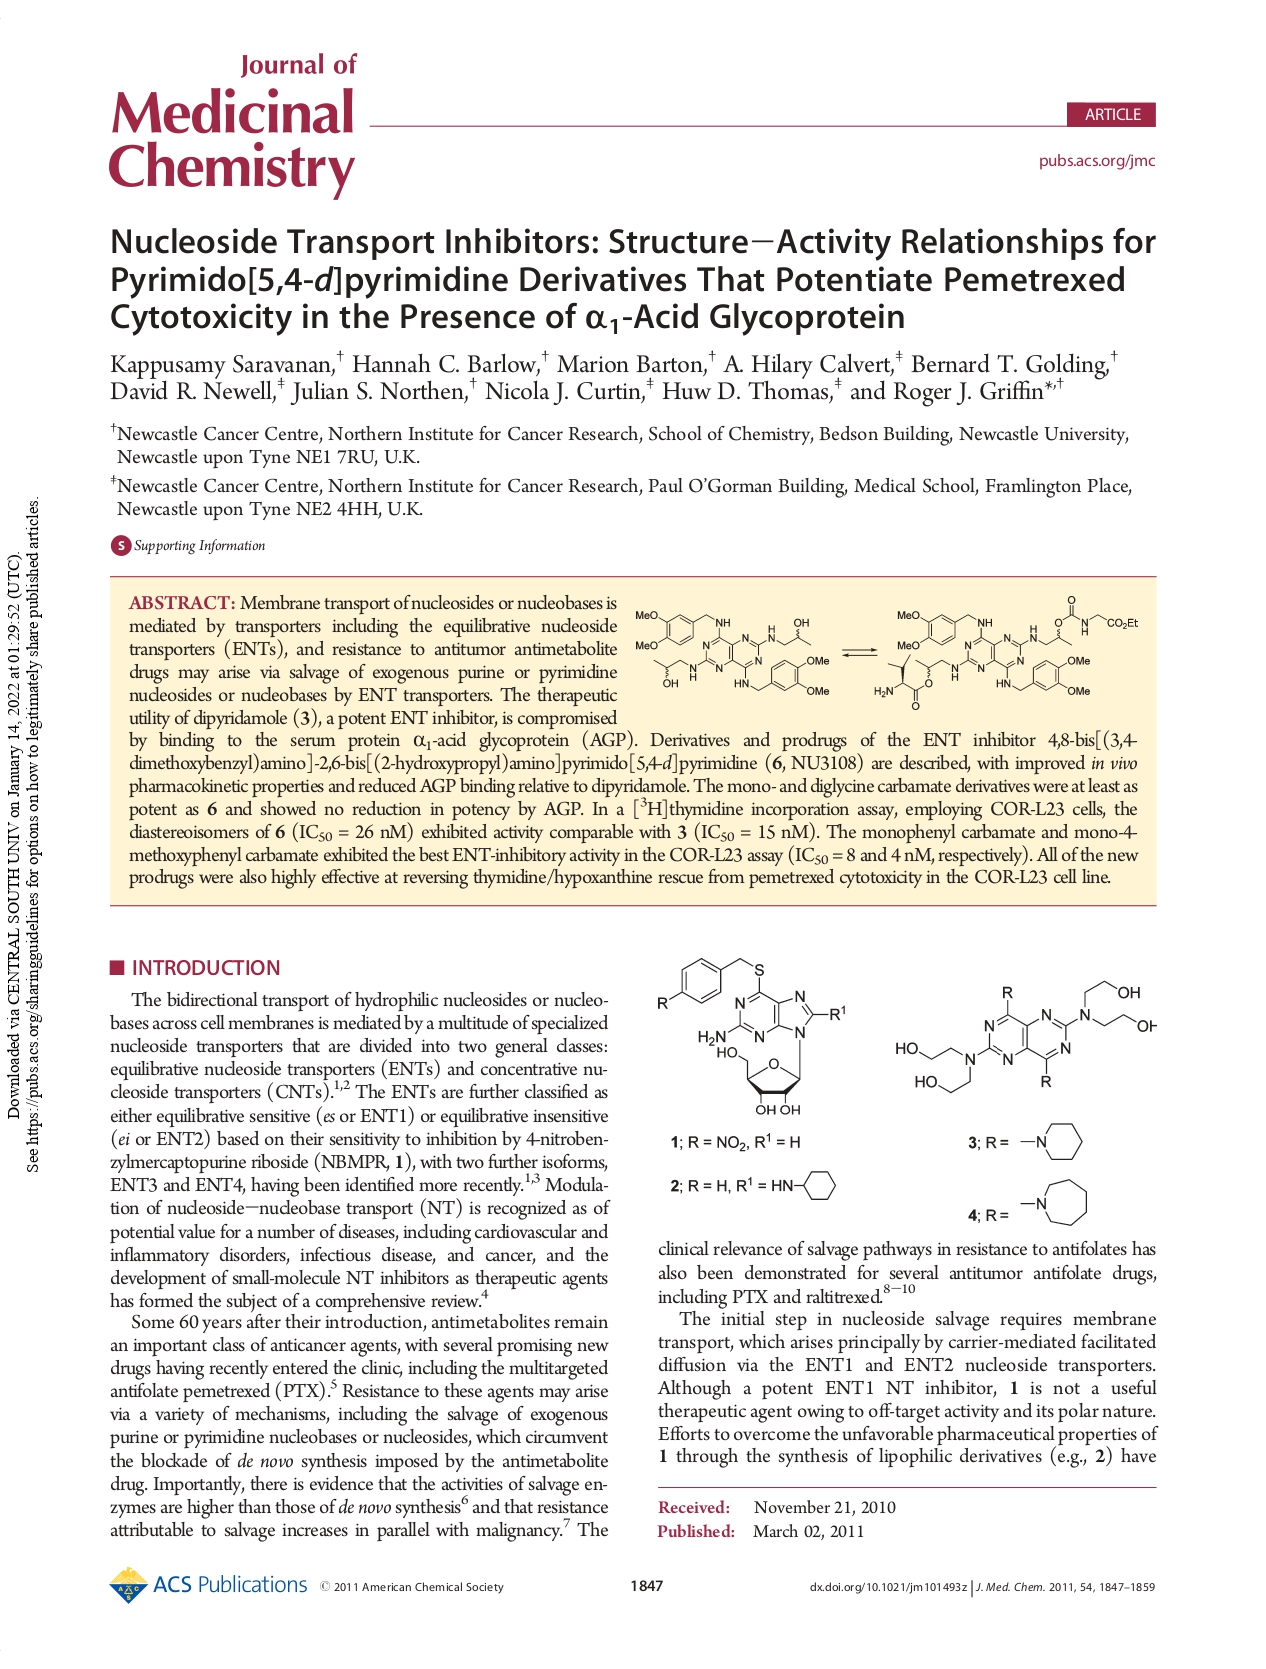exist_molecular: (890, 973, 1160, 1102), (650, 951, 847, 1120), (872, 593, 1138, 713), (632, 602, 832, 701), (1019, 1176, 1092, 1227), (1016, 1114, 1085, 1168), (769, 1166, 839, 1204)
